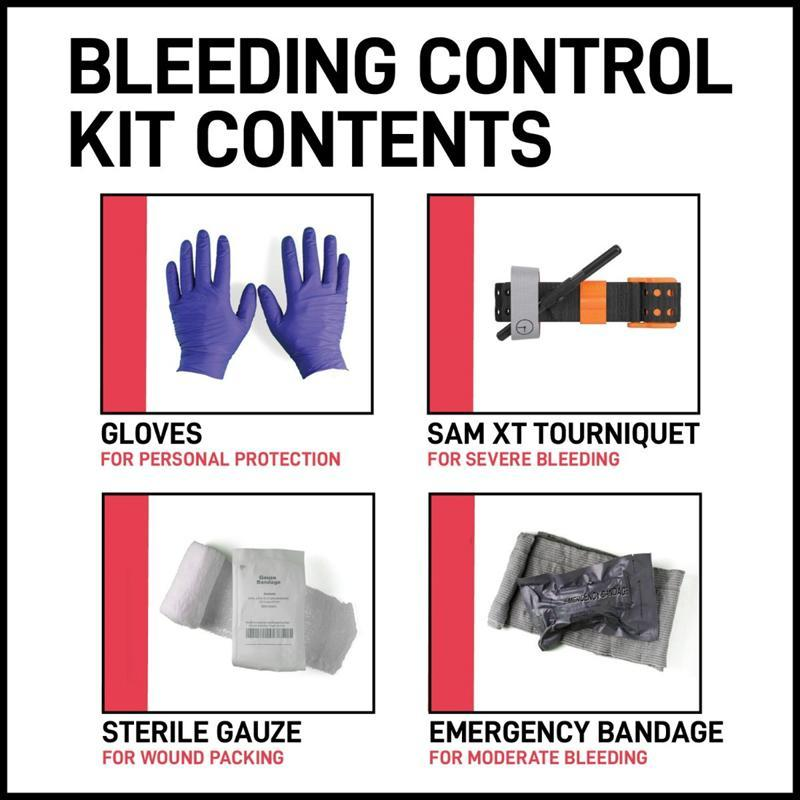gauze: (160, 541, 359, 681)
